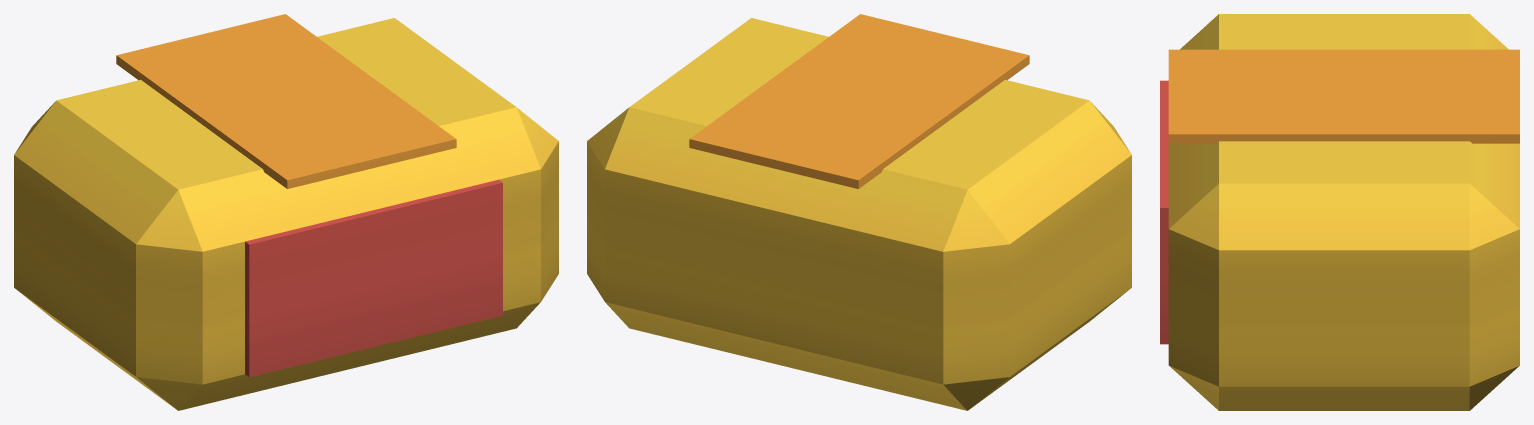
The model's file is Lanche.glb.
3 views of the same model, side by side, from view 1: azimuth 30°, elevation 25°; view 2: azimuth 150°, elevation 25°; view 3: azimuth 270°, elevation 25° (orthographic). The views are drawn at different scales.
Visible parts, largest first — view 1: Lanche_Malha; view 2: Lanche_Malha; view 3: Lanche_Malha.
Part boxes in pixels (<box>): Lanche_Malha: <box>14,14,558,410</box>; Lanche_Malha: <box>587,14,1131,410</box>; Lanche_Malha: <box>1160,14,1519,410</box>.
Bounding box in the file's own units: 0.2 × 0.103 × 0.1435.
1 material, 1 textured.
